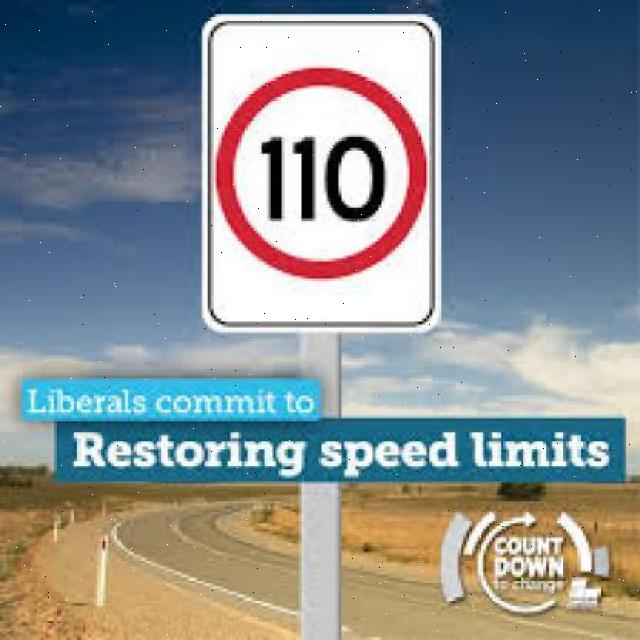speed limit 110: (212, 68, 431, 278)
